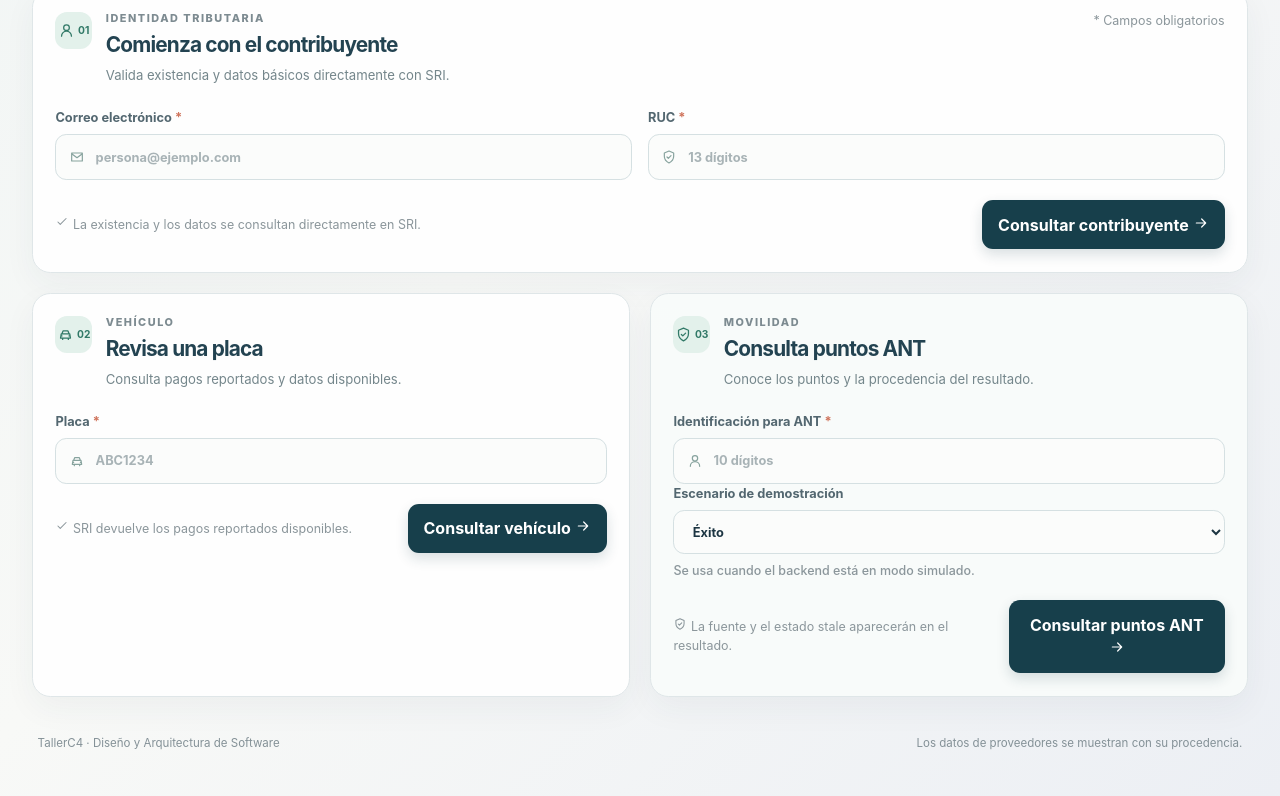
Test: TallerC4 app shell › announces a successful ANT query with a toast and expandable result
The image size is (1280, 796).
(page scrolled)
Type "0000000011" into the field labelled "Identificación para ANT *" at (949, 461), box [673, 438, 1225, 484]
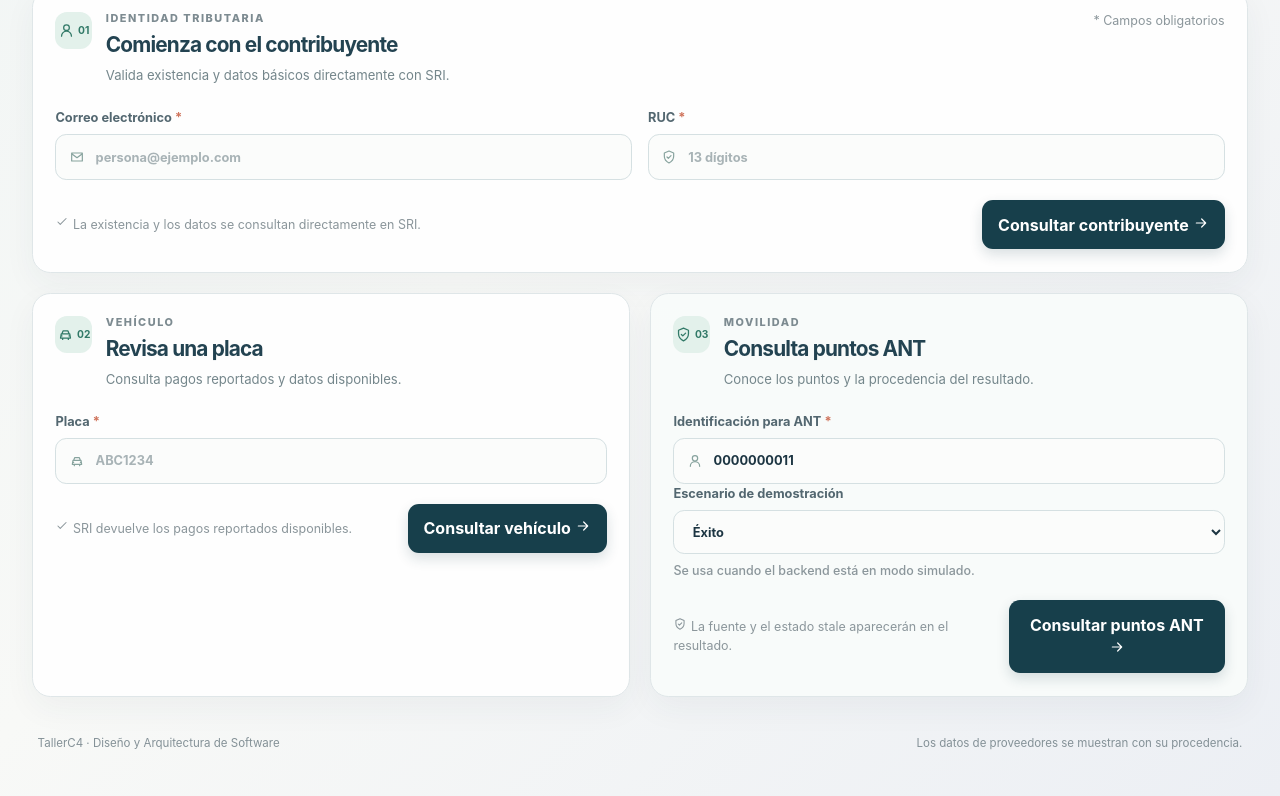
Click the button "Consultar puntos ANT" at (1117, 637), box [1009, 600, 1225, 673]
(page scrolled)
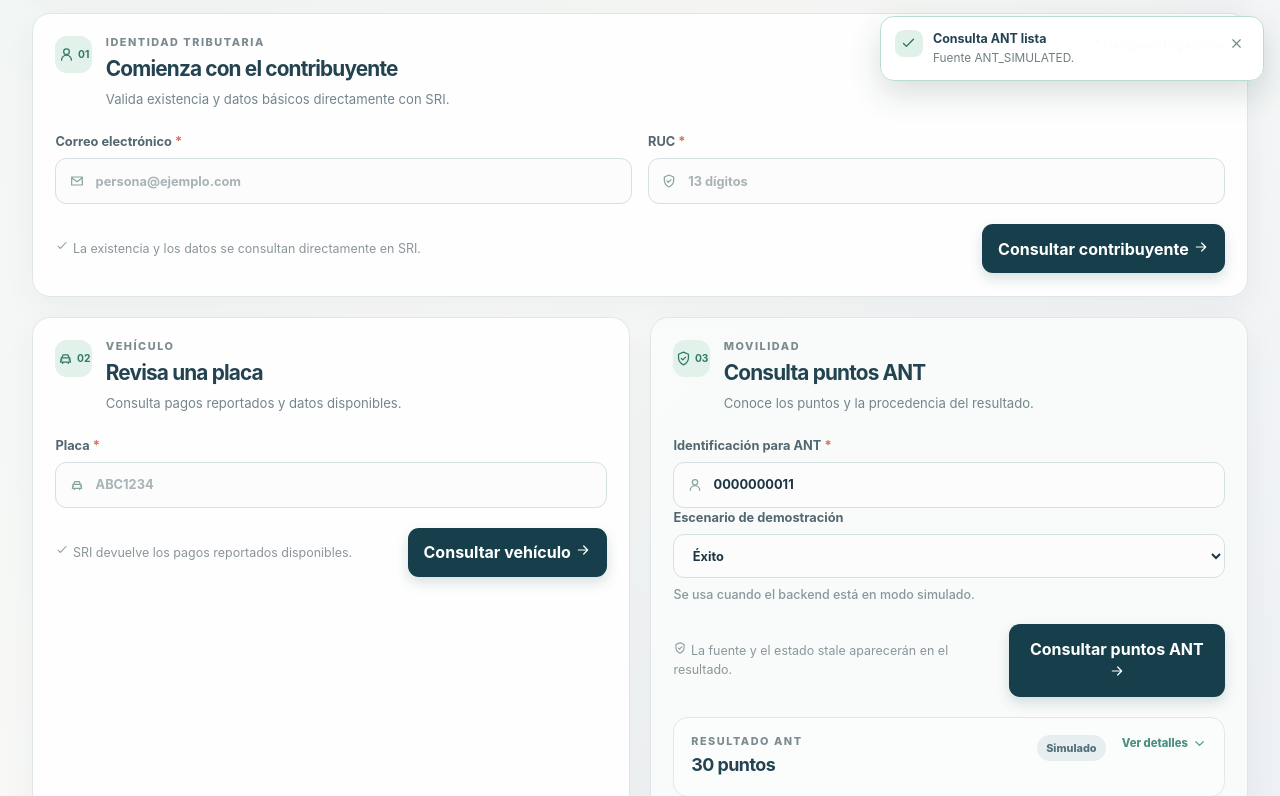
Check: the text "Consulta ANT lista" is shown, box [933, 31, 1046, 46]
Check: the text "Ver detalles" is shown
Click the text "Ver detalles" at (1164, 743), box [1122, 735, 1207, 752]
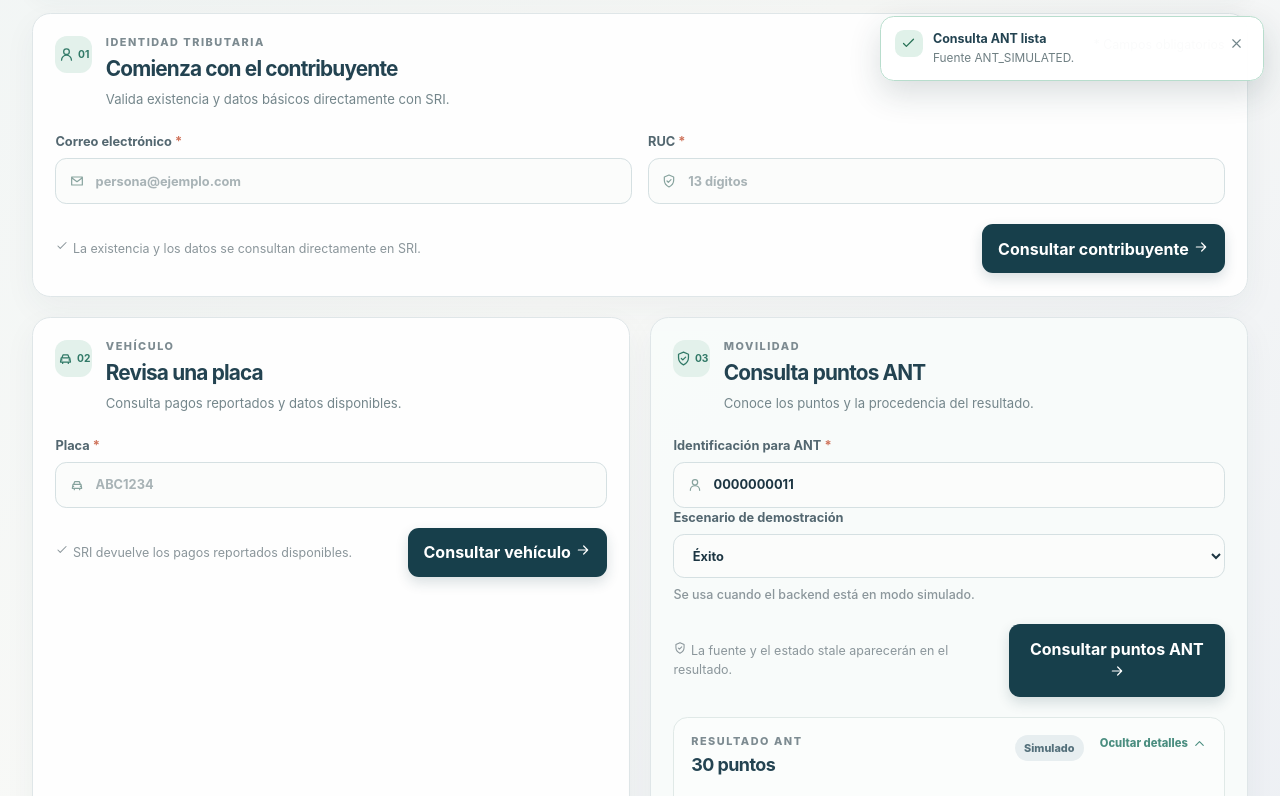
Check: the text "Ocultar detalles" is shown, box [1100, 735, 1207, 752]
